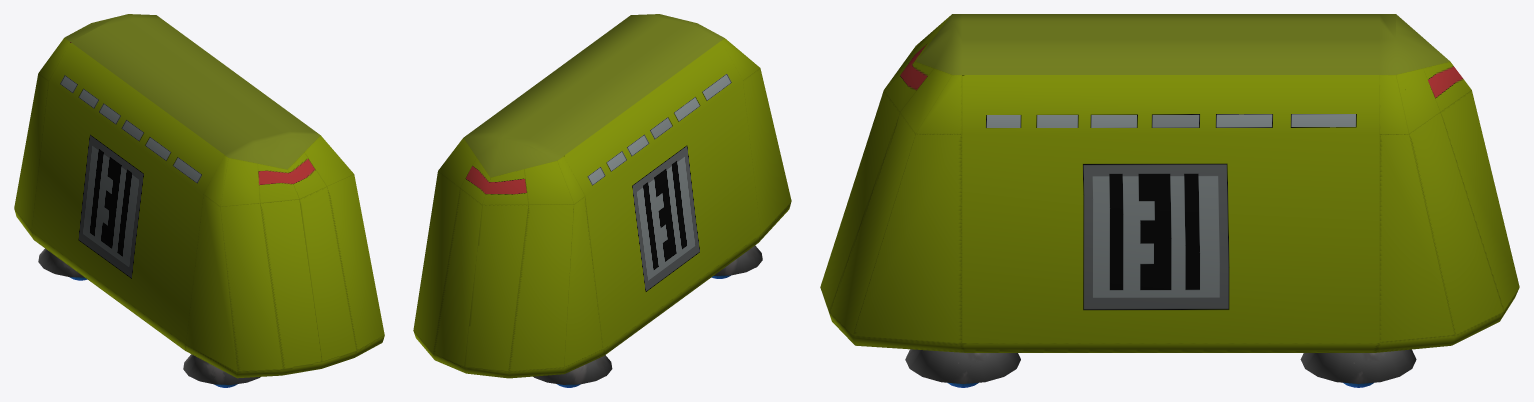
Rendered from bassObject.fbx.
3 views of the same model, side by side, from view 1: azimuth 30°, elevation 25°; view 2: azimuth 150°, elevation 25°; view 3: azimuth 270°, elevation 25° (orthographic). The views are drawn at different scales.
Visible parts, largest first — view 1: Cone.002; view 2: Cone.002; view 3: Cone.002.
Part boxes in pixels (<box>): Cone.002: <box>14,14,384,387</box>; Cone.002: <box>413,14,791,387</box>; Cone.002: <box>820,14,1519,387</box>.
Size of the model in its own units: 4.55 by 6.17 by 12.06.
